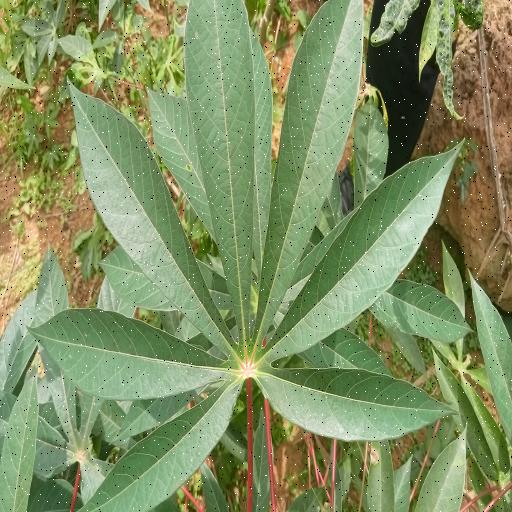Cassava_Healthy: (26, 0, 465, 510)
